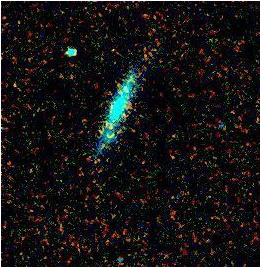star: (95, 122, 125, 152)
